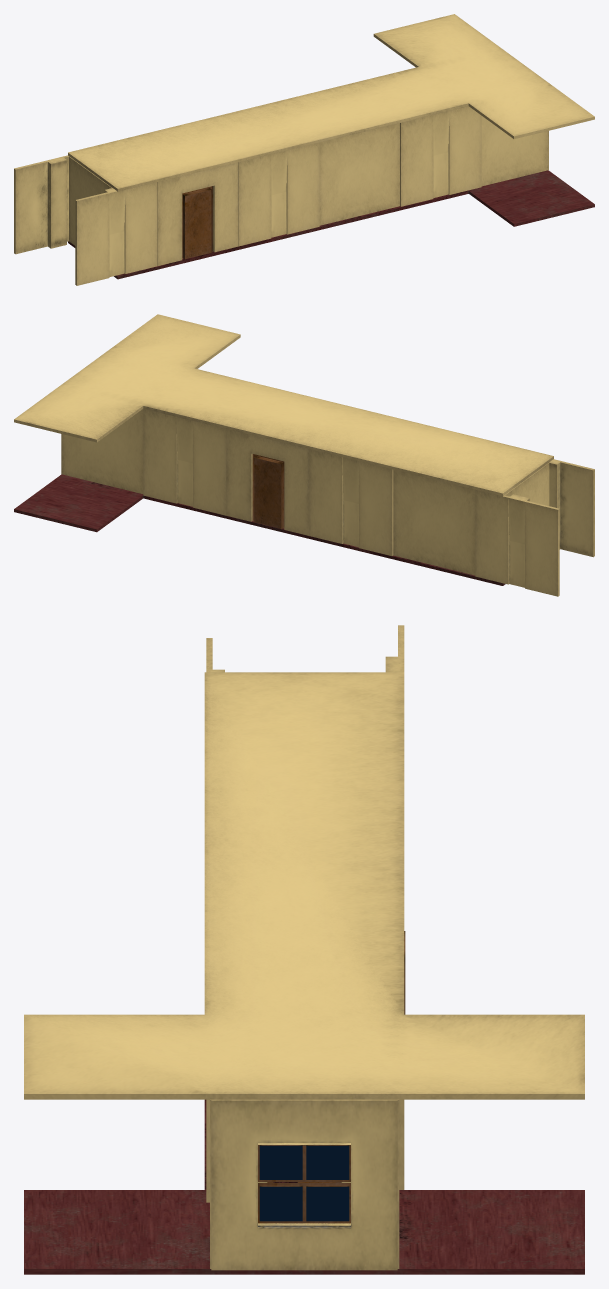
The model's file is scary_interiorHallway.glb.
The picture shows the model from 3 angles, top to bottom: view 1: azimuth 30°, elevation 25°; view 2: azimuth 150°, elevation 25°; view 3: azimuth 270°, elevation 25°; orthographic projection. The views are drawn at different scales.
Visible parts, largest first — view 1: Plane.001, Cube.014, Cube.005, Cube.011, Cube.013, Cube.009, Plane, Cube.006, Cube.008, Cube.007; view 2: Plane.001, Cube.006, Cube, Cube.003, Cube.002, Cube.001, Plane, Cube.010, Cube.014, Cube.007; view 3: Plane.001, Plane, Cube.012.
Boxes of the visible parts, x1,y1,x2,y2 form: Plane.001: (68, 14, 594, 191); Cube.014: (75, 182, 157, 285); Cube.005: (238, 142, 319, 246); Cube.011: (157, 162, 238, 265); Cube.013: (400, 106, 481, 206); Cube.009: (319, 123, 399, 225); Plane: (68, 170, 594, 279); Cube.006: (14, 155, 68, 254); Cube.008: (481, 116, 548, 186); Cube.007: (69, 156, 111, 245); Plane.001: (14, 314, 553, 496); Cube.006: (475, 489, 559, 596); Cube: (309, 449, 393, 555); Cube.003: (143, 408, 226, 515); Cube.002: (226, 429, 309, 535); Cube.001: (393, 469, 475, 575); Plane: (14, 474, 505, 585); Cube.010: (61, 409, 143, 493); Cube.014: (549, 459, 594, 557); Cube.007: (505, 463, 549, 505); Plane.001: (24, 672, 584, 1099); Plane: (24, 1099, 584, 1274); Cube.012: (211, 1099, 397, 1270).
Bounding box in the file's own units: 14.97 × 2.65 × 7.45.
3 materials, 1 textured.
